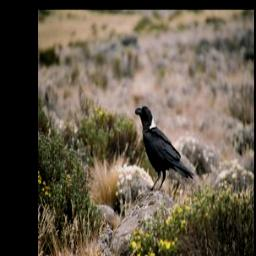Crow: (133, 102, 195, 194)
